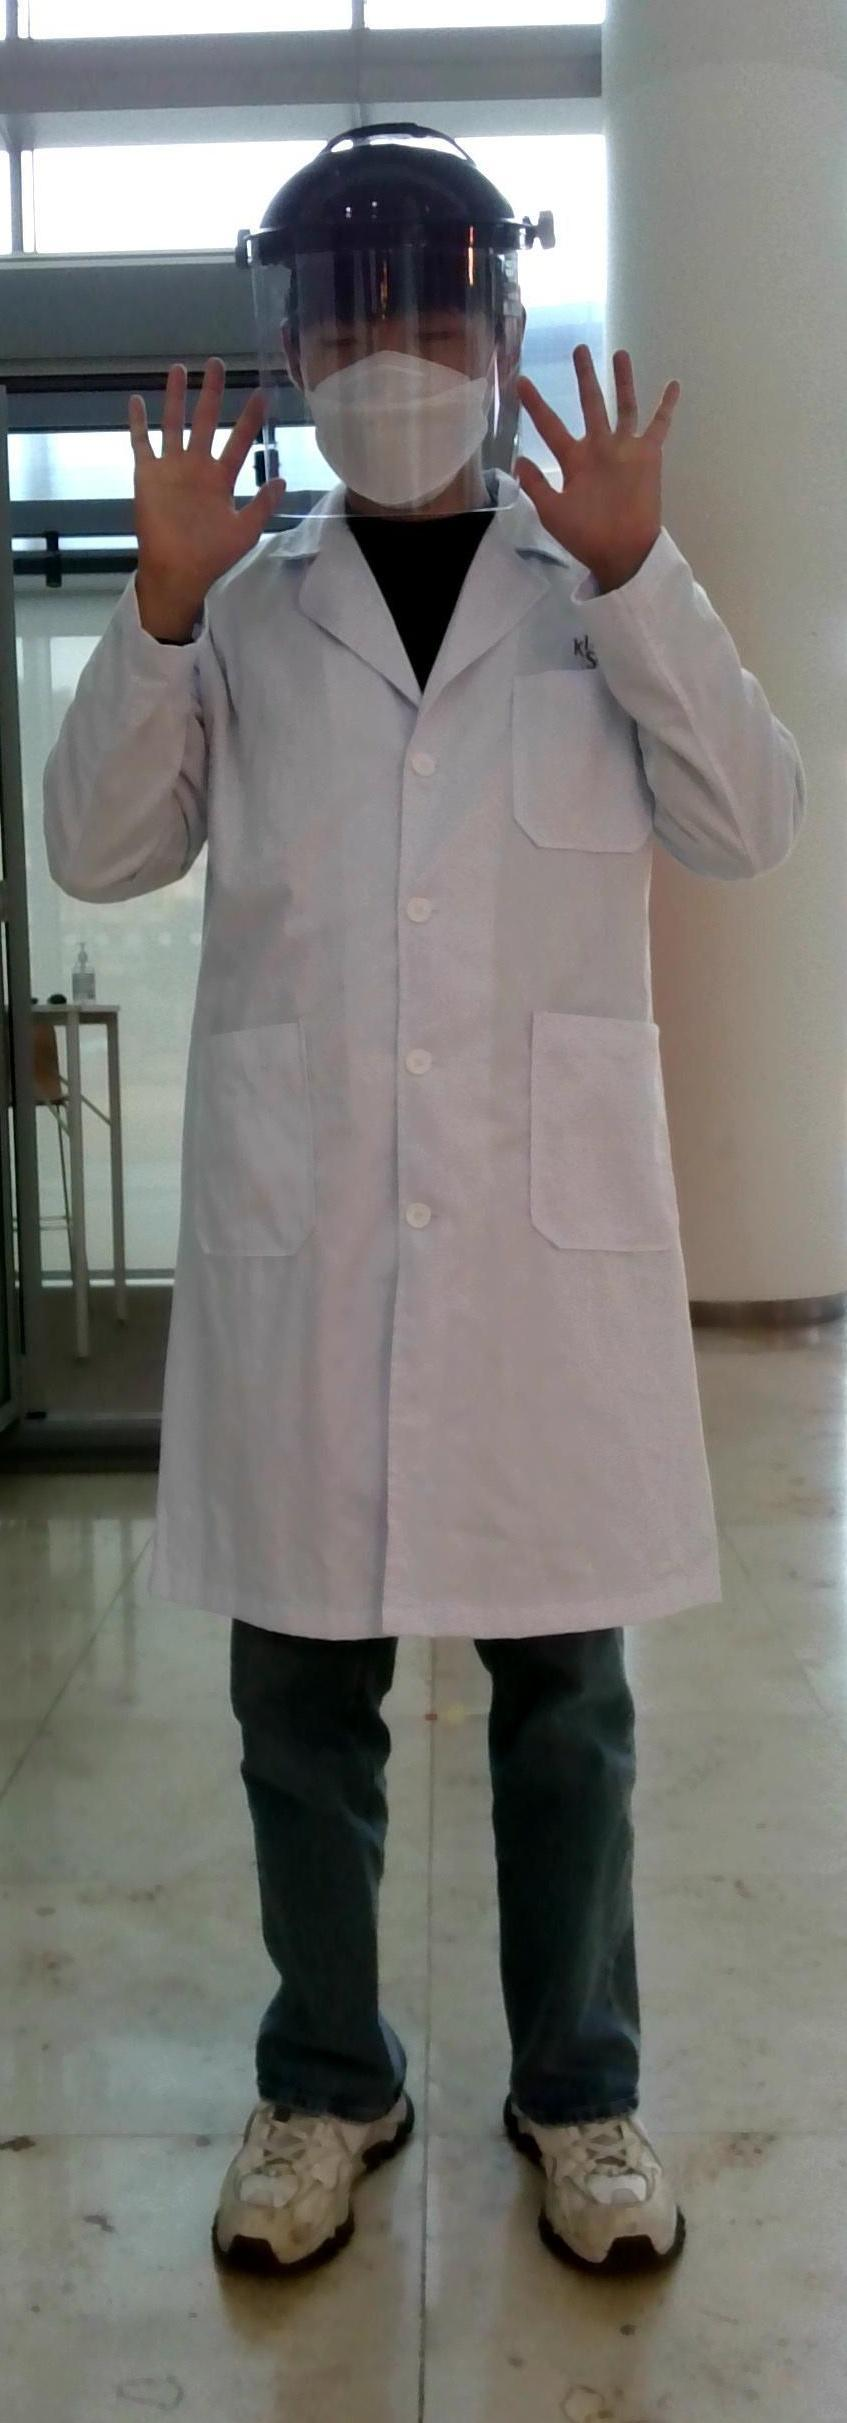lab_coat: (76, 596, 822, 1572)
